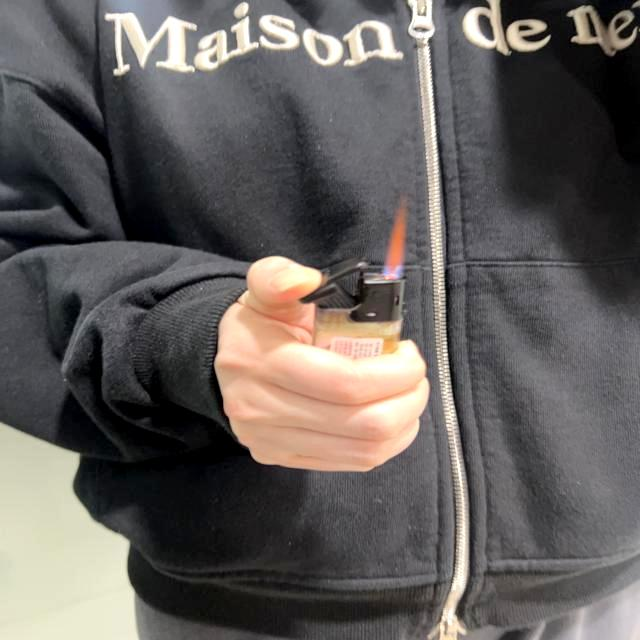fire: (382, 192, 406, 280)
